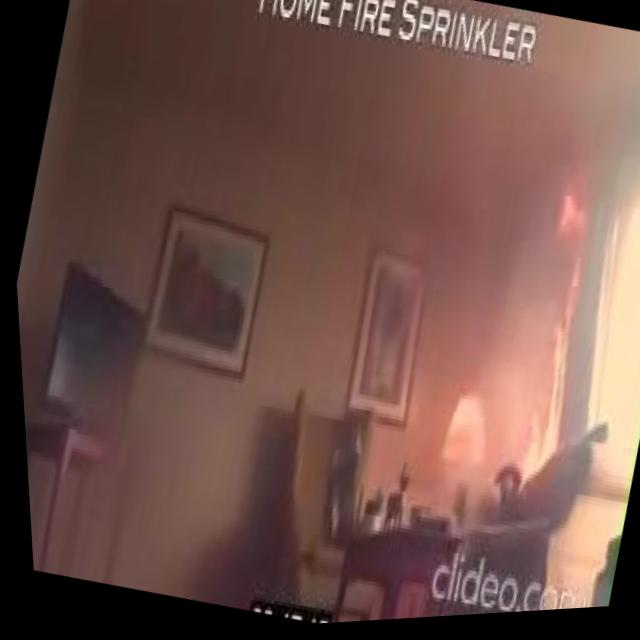fire: (483, 184, 615, 486)
